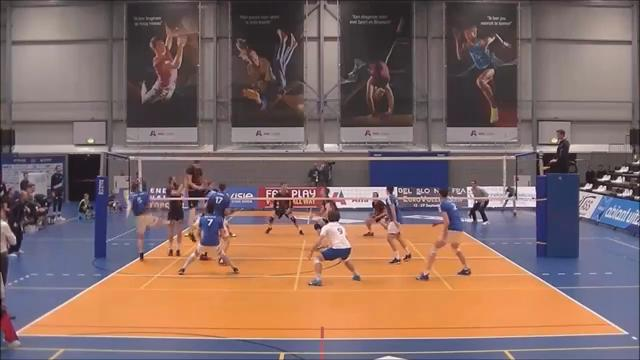attacco: (125, 179, 179, 266)
